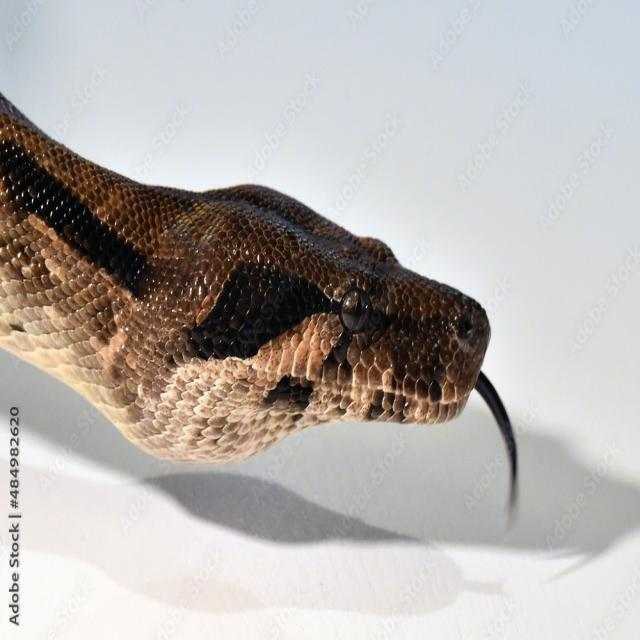Snake: (0, 0, 532, 500)
